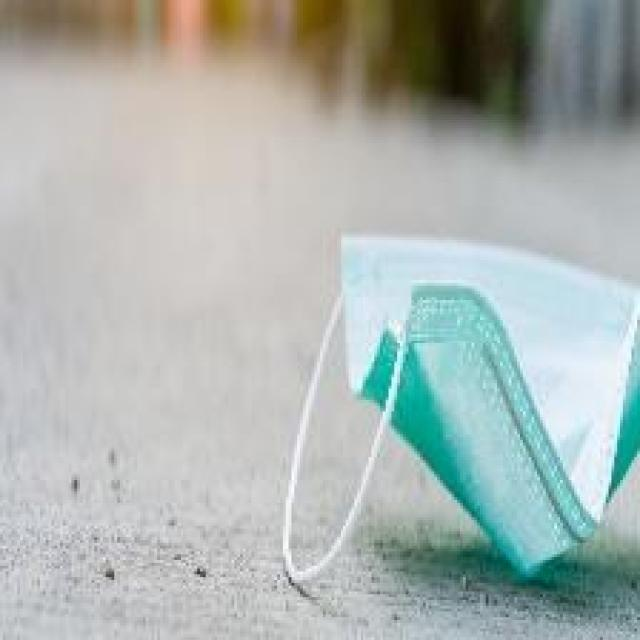Mask: (276, 202, 634, 634)
